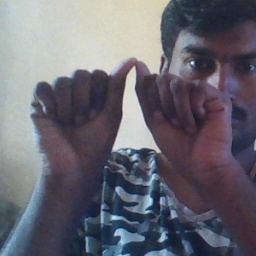A: (53, 50, 213, 165)
